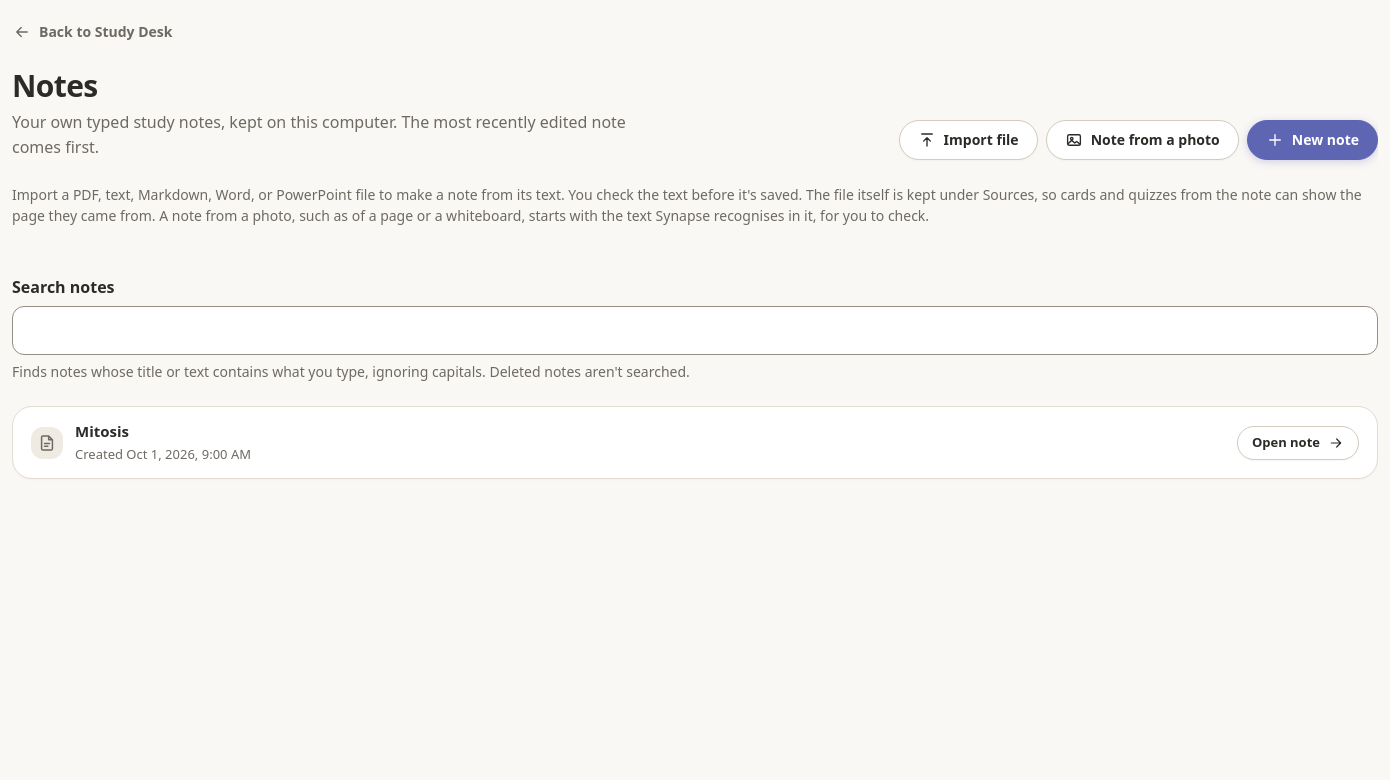
text in a picture of a note › can be stopped, and is stopped when the screen goes
The image size is (1390, 780).
Click the button "Open note" at (1298, 443), box [1237, 426, 1359, 460]
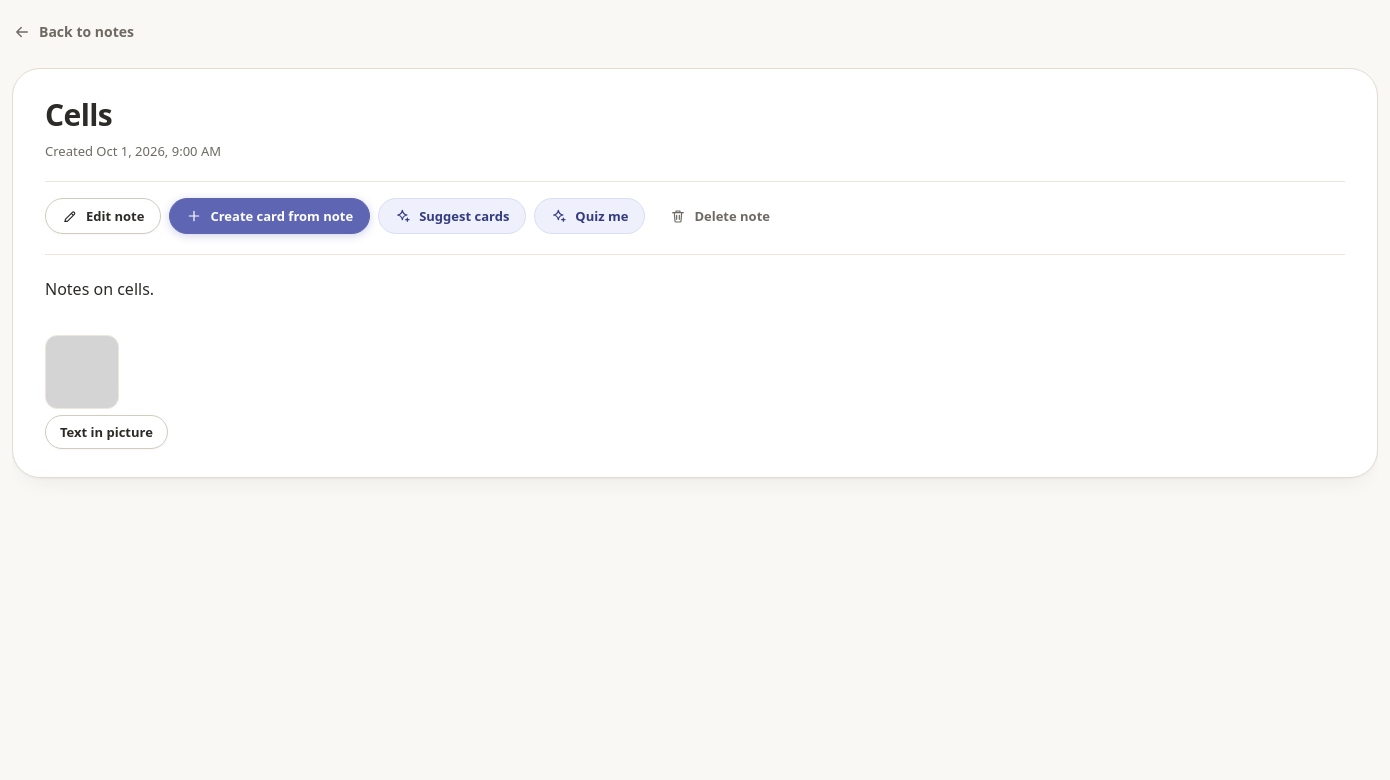
Result: the heading "Cells" is shown at [45, 94, 112, 135]
Click the button with aria-label "Text in picture in the note" at (106, 432), box [45, 415, 168, 449]
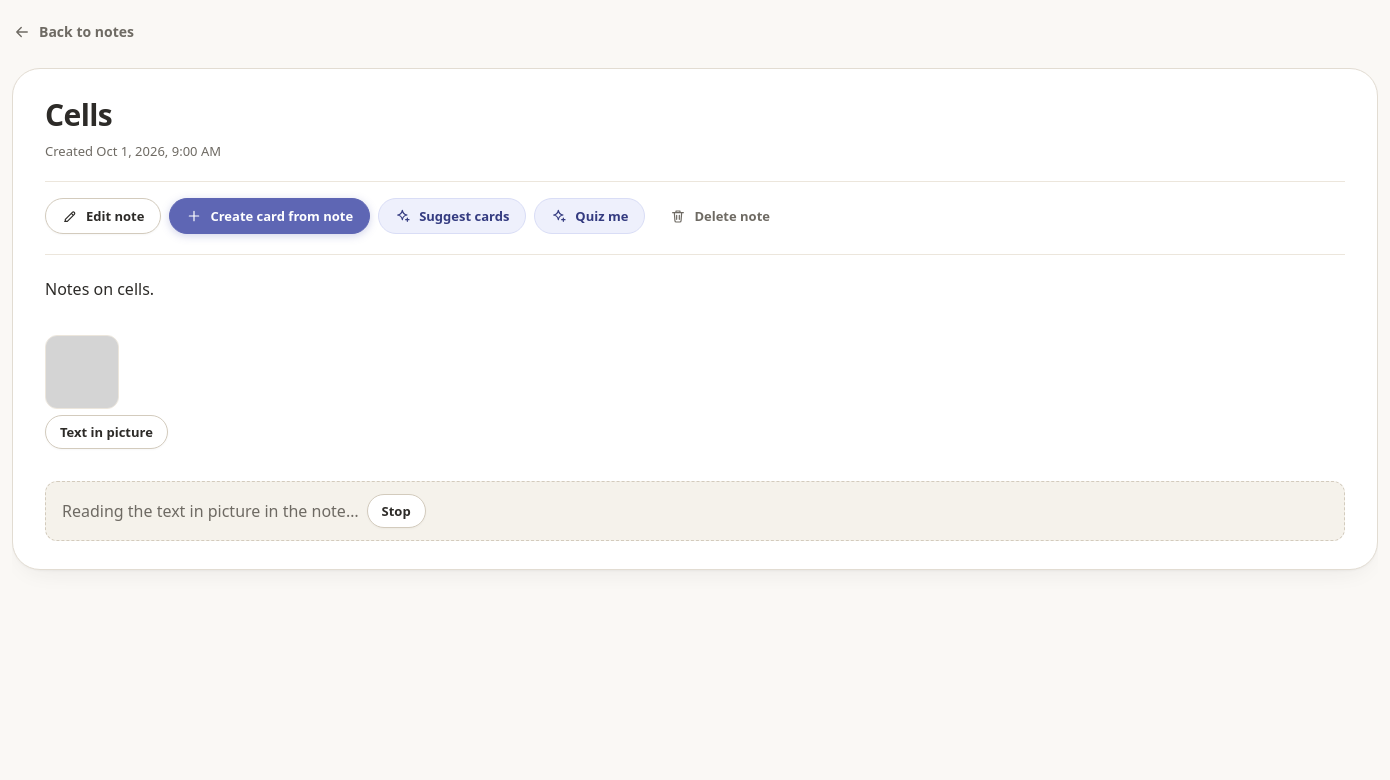
Result: the text "Reading the text in picture in the note…" is shown at [62, 499, 358, 524]
Click the button "Stop" at (396, 511), box [366, 494, 426, 528]
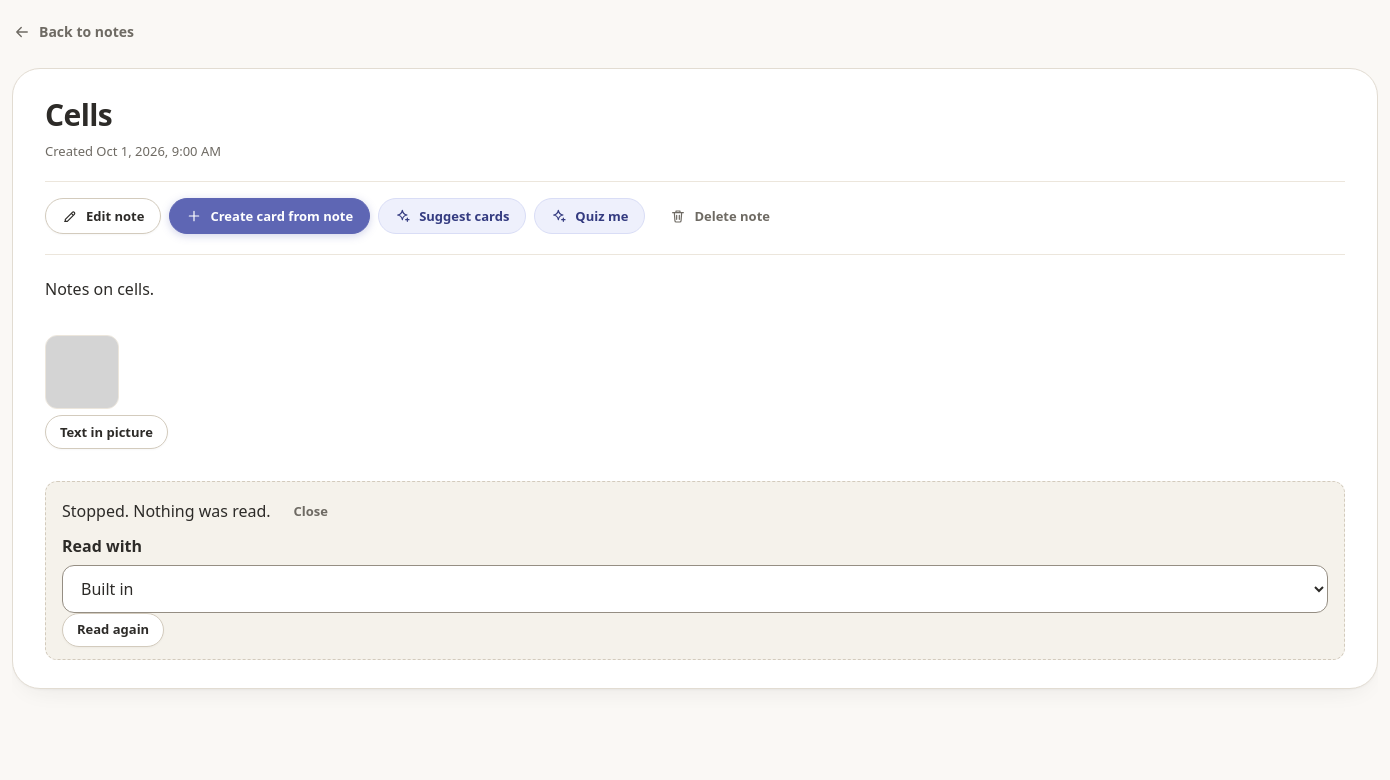
Result: the text "Stopped. Nothing was read." is shown at [62, 499, 270, 524]
Click the button with aria-label "Text in picture in the note" at (106, 432), box [45, 415, 168, 449]
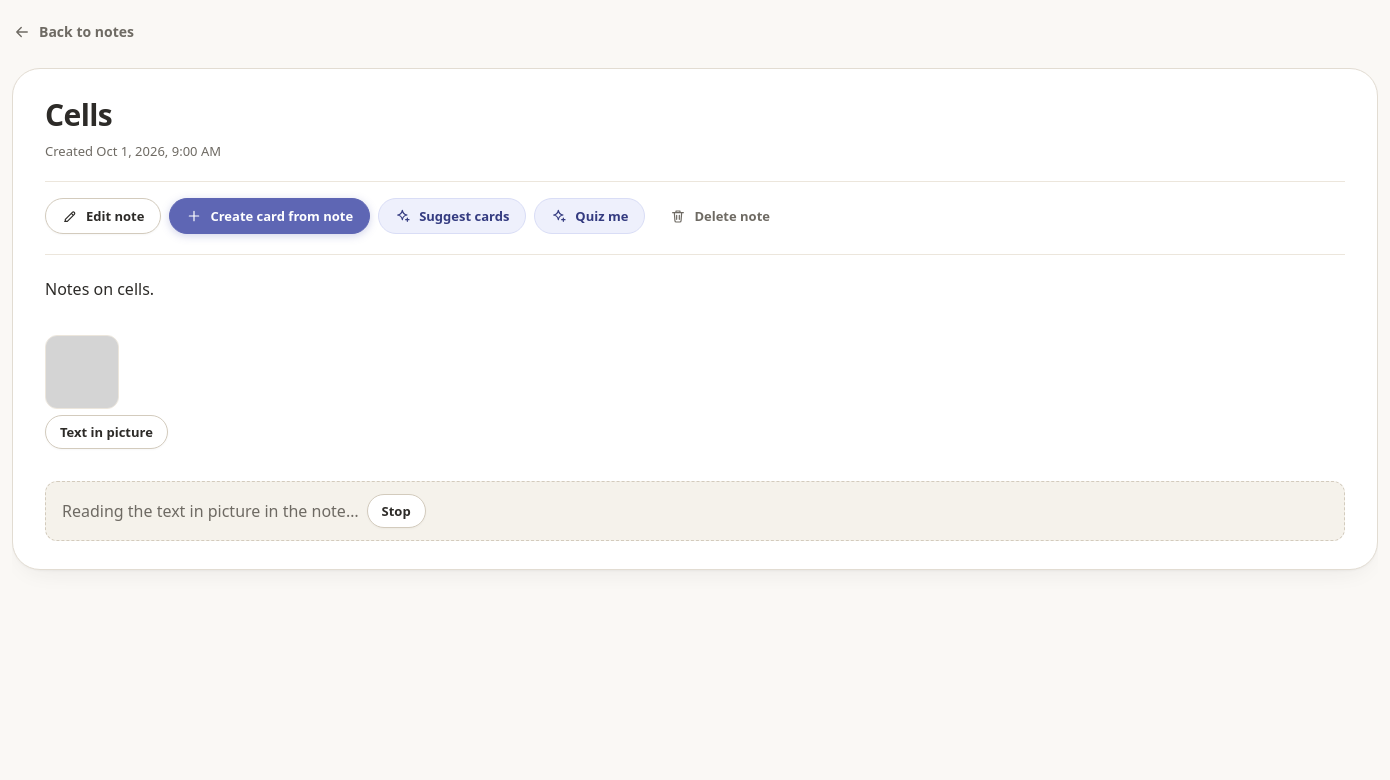
Result: the text "Reading the text in picture in the note…" is shown at [62, 499, 358, 524]
